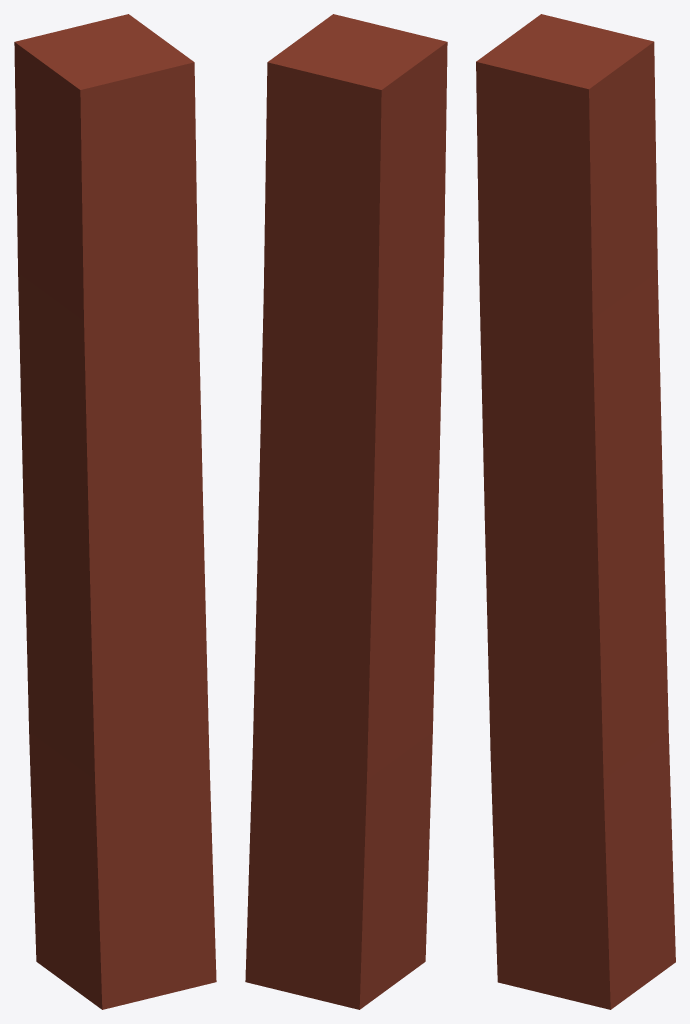
File: sick_1a.fbx
3 renders of one model, left to right at view 1: azimuth 30°, elevation 25°; view 2: azimuth 150°, elevation 25°; view 3: azimuth 330°, elevation 25°, orthographic.
Parts seen in each view (by area): view 1: sick_1a; view 2: sick_1a; view 3: sick_1a.
Part boxes in pixels (x1=…): sick_1a: x1=14, y1=14, x2=216, y2=1009; sick_1a: x1=245, y1=14, x2=447, y2=1009; sick_1a: x1=476, y1=14, x2=675, y2=1009.
Bounding box in the file's own units: 11.17 × 72.55 × 9.37.
